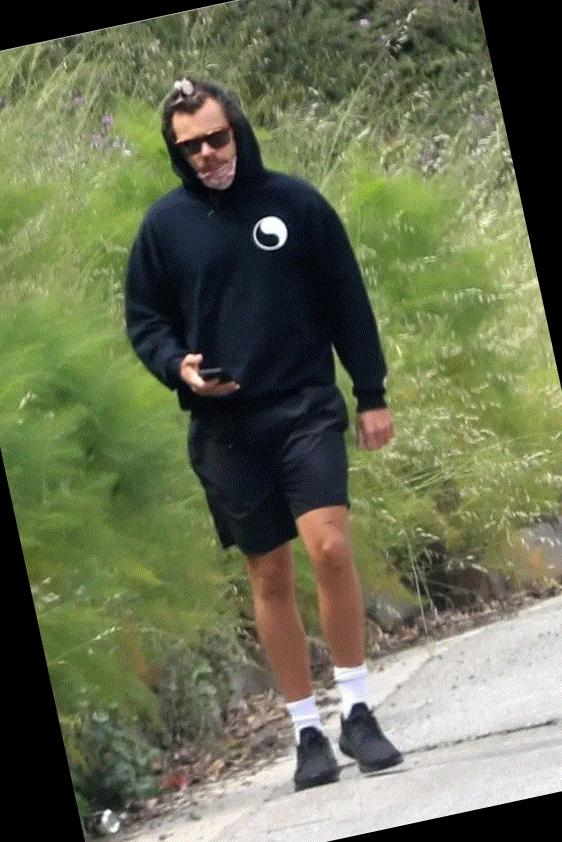mask_weared_incorrect: (175, 115, 244, 190)
